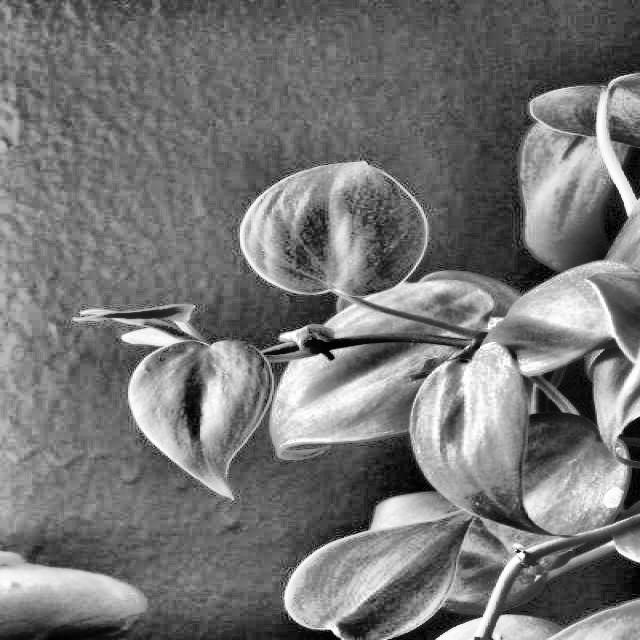plants: (90, 70, 638, 639), (256, 304, 496, 379)
